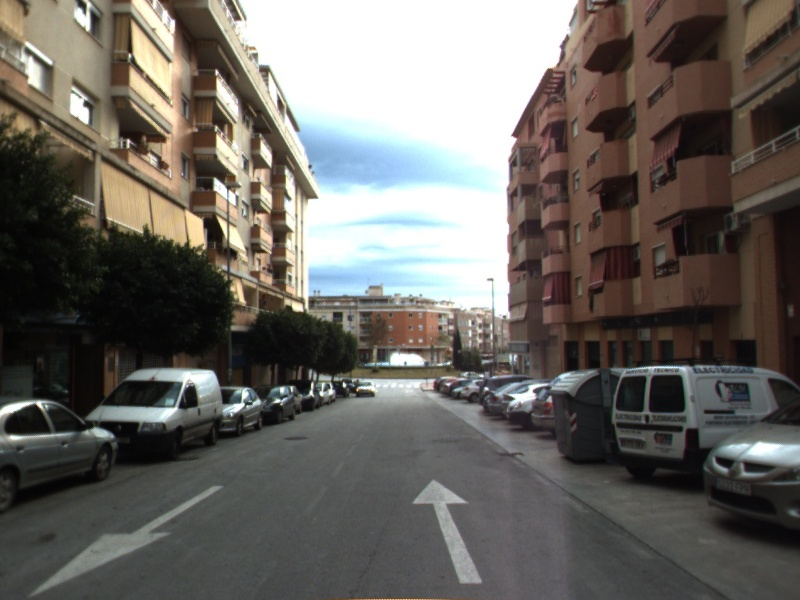STRAIGHT: (408, 475, 488, 587)
